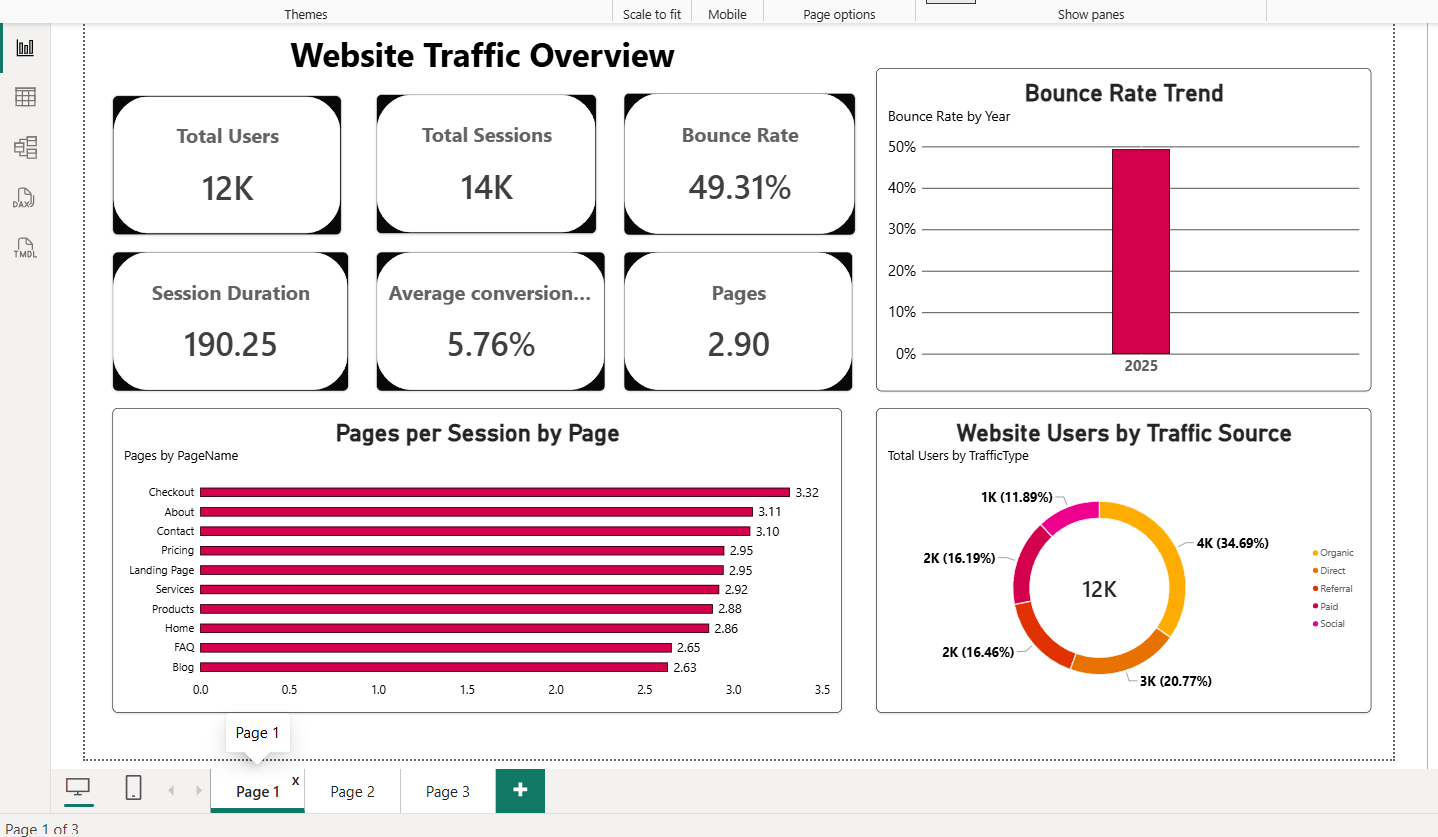

What the dashboard file says about the page in this screenshot:
{"tool":"powerbi","page":{"name":"Page 1","canvas":[1920,1080],"ordinal":0},"visuals":[{"type":"textbox","box":[24,12.9,1102.2,72],"z":0},{"type":"cardVisual","fields":{"Data":["website_traffic_dashboard_project_ready.Total Users"]},"box":[39.7,106.4,336,204.5],"z":1000},{"type":"cardVisual","fields":{"Data":["website_traffic_dashboard_project_ready.Average Session Duration"]},"box":[39.7,336,346.4,204.5],"z":2000},{"type":"cardVisual","fields":{"Data":["website_traffic_dashboard_project_ready.Total Sessions"]},"box":[427.8,104.3,323.5,204.5],"z":3000},{"type":"cardVisual","fields":{"Data":["website_traffic_dashboard_project_ready.Average Bounce Rate"]},"box":[791,102.3,340.2,208.7],"z":4000},{"type":"lineStackedColumnComboChart","title":"Bounce Rate Trend","fields":{"Category":["website_traffic_dashboard_project_ready.Date.Variation.Date Hierarchy.Year","website_traffic_dashboard_project_ready.Date.Variation.Date Hierarchy.Quarter","website_traffic_dashboard_project_ready.Date.Variation.Date Hierarchy.Month","website_traffic_dashboard_project_ready.Date.Variation.Date Hierarchy.Day"],"Y":["website_traffic_dashboard_project_ready.Average Bounce"]},"box":[1161.1,65.2,726.3,474.6],"z":5000},{"type":"barChart","title":"Pages per Session by Page","fields":{"Category":["website_traffic_dashboard_project_ready.PageName"],"Y":["website_traffic_dashboard_project_ready.Average Pages per Session"]},"box":[39.8,565.1,1070.5,447.4],"z":6000},{"type":"donutChart","title":"Website Users by Traffic Source","fields":{"Category":["website_traffic_dashboard_project_ready.TrafficType"],"Y":["website_traffic_dashboard_project_ready.Total Users"]},"box":[1161.1,565.1,726.3,447.4],"z":7000},{"type":"cardVisual","fields":{"Data":["website_traffic_dashboard_project_ready.Average Conversion Rate"]},"box":[427.8,336,336,204.5],"z":8000},{"type":"cardVisual","fields":{"Data":["website_traffic_dashboard_project_ready.Average Pages per Session"]},"box":[791,336,336,204.5],"z":9000}]}

Visuals, with their boxes on the page's 1920x1080 design canvas (x1, y1, x2, y2). These are canvas units, not pixel positions in the 1438x837 screenshot, which may show the page scaled, cropped or inside an application window:
textbox: 24/13/1126/85
cardVisual - website_traffic_dashboard_project_ready.Total Users: 40/106/376/311
cardVisual - website_traffic_dashboard_project_ready.Average Session Duration: 40/336/386/540
cardVisual - website_traffic_dashboard_project_ready.Total Sessions: 428/104/751/309
cardVisual - website_traffic_dashboard_project_ready.Average Bounce Rate: 791/102/1131/311
"Bounce Rate Trend" lineStackedColumnComboChart: 1161/65/1887/540
"Pages per Session by Page" barChart: 40/565/1110/1012
"Website Users by Traffic Source" donutChart: 1161/565/1887/1012
cardVisual - website_traffic_dashboard_project_ready.Average Conversion Rate: 428/336/764/540
cardVisual - website_traffic_dashboard_project_ready.Average Pages per Session: 791/336/1127/540
